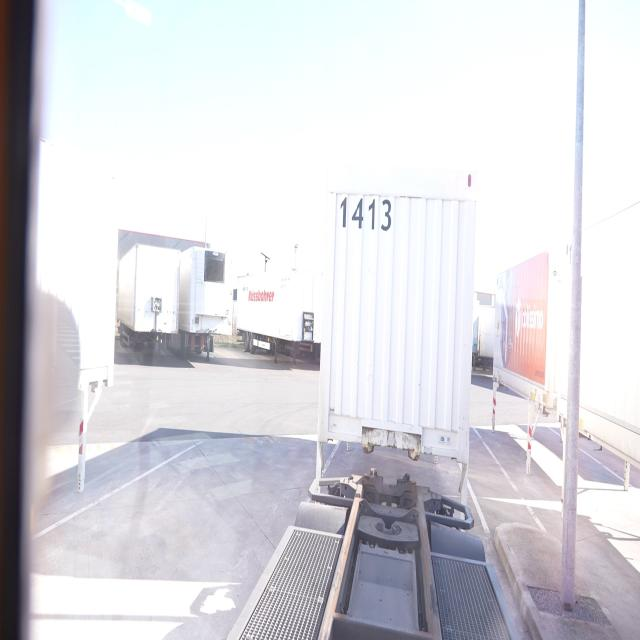Code: (336, 191, 393, 234)
